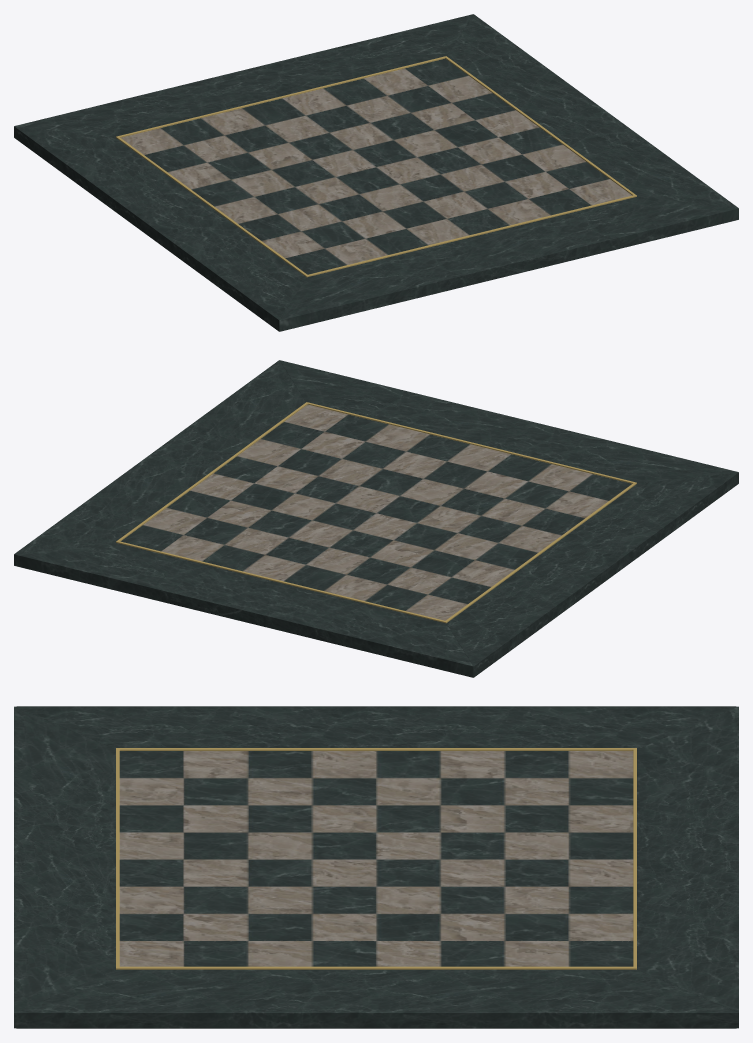
Rendered from chess_extra.glb.
The picture shows the model from 3 angles, top to bottom: view 1: azimuth 30°, elevation 25°; view 2: azimuth 150°, elevation 25°; view 3: azimuth 270°, elevation 25°; orthographic projection. The views are drawn at different scales.
Visible parts, largest first — view 1: Chessboard; view 2: Chessboard; view 3: Chessboard.
Part boxes in pixels (bbox=[...]): Chessboard: bbox=[14, 14, 738, 331]; Chessboard: bbox=[14, 360, 738, 677]; Chessboard: bbox=[14, 706, 738, 1028].
Size of the model in its own units: 0.7054 by 0.0185 by 0.7054.
Materials: 1 (1 with a texture image).
